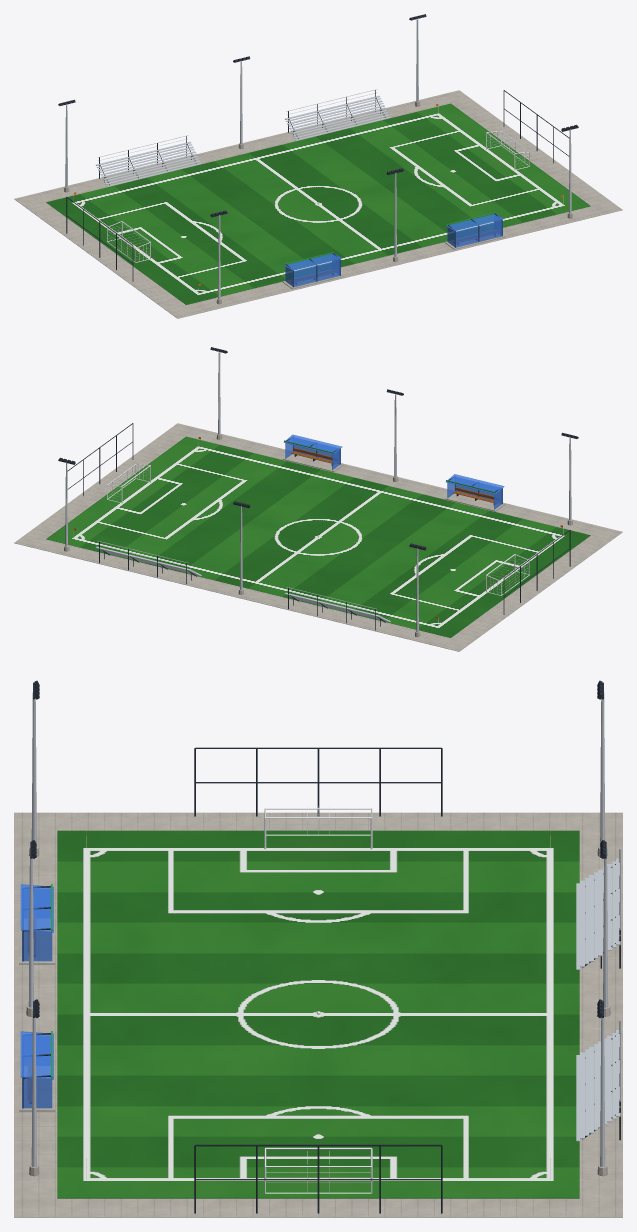
Rendered from landmark_athletic_field.glb.
The picture shows the model from 3 angles, top to bottom: view 1: azimuth 30°, elevation 25°; view 2: azimuth 150°, elevation 25°; view 3: azimuth 270°, elevation 25°; orthographic projection. The views are drawn at different scales.
Visible parts, largest first — view 1: Ath_PitchTurf, Ath_ConcreteApron, Ath_BleachersAndPoles, Ath_DugoutCanopy, Ath_DarkSteel, Ath_GoalsAndNets; view 2: Ath_PitchTurf, Ath_ConcreteApron, Ath_BleachersAndPoles, Ath_DugoutCanopy, Ath_DarkSteel, Ath_GoalsAndNets, Ath_CedarBenches; view 3: Ath_PitchTurf, Ath_ConcreteApron, Ath_BleachersAndPoles, Ath_DarkSteel, Ath_DugoutCanopy, Ath_GoalsAndNets.
Boxes of the visible parts, x1,y1,x2,y2 form: Ath_PitchTurf: (46, 103, 590, 304); Ath_ConcreteApron: (14, 90, 622, 318); Ath_BleachersAndPoles: (65, 19, 571, 299); Ath_DugoutCanopy: (283, 214, 504, 286); Ath_DarkSteel: (58, 14, 578, 287); Ath_GoalsAndNets: (73, 104, 563, 293); Ath_PitchTurf: (46, 436, 590, 637); Ath_ConcreteApron: (14, 423, 622, 651); Ath_BleachersAndPoles: (65, 352, 571, 632); Ath_DugoutCanopy: (284, 434, 504, 509); Ath_DarkSteel: (58, 347, 578, 630); Ath_GoalsAndNets: (73, 441, 563, 626); Ath_CedarBenches: (291, 448, 499, 503); Ath_PitchTurf: (57, 830, 579, 1198); Ath_ConcreteApron: (14, 812, 622, 1217); Ath_BleachersAndPoles: (28, 693, 620, 1166); Ath_DarkSteel: (22, 680, 620, 1213); Ath_DugoutCanopy: (20, 884, 53, 1108); Ath_GoalsAndNets: (86, 806, 550, 1193).
Size of the model in its own units: 66 by 12.83 by 42.
Materials: 10 (3 with a texture image).
